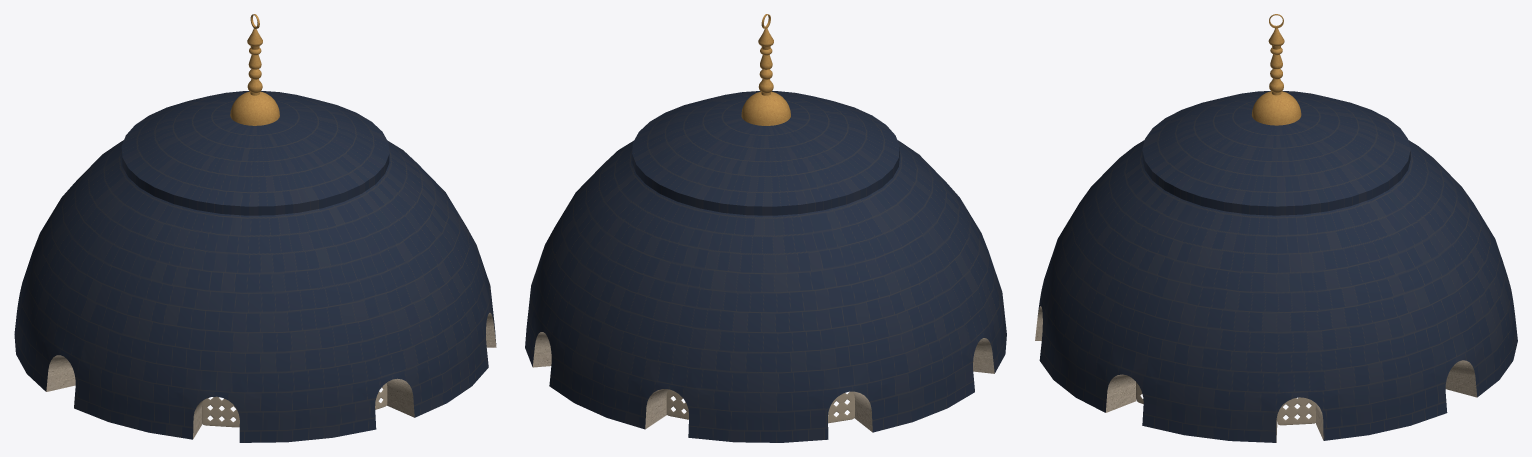
Rendered from BigDome.fbx.
The picture shows the model from 3 angles, left to right: view 1: azimuth 30°, elevation 25°; view 2: azimuth 150°, elevation 25°; view 3: azimuth 270°, elevation 25°; orthographic projection.
Parts seen in each view (by area): view 1: Sphere.003; view 2: Sphere.003; view 3: Sphere.003.
Boxes of the visible parts, x1,y1,x2,y2 form: Sphere.003: [14, 14, 496, 442]; Sphere.003: [525, 14, 1006, 442]; Sphere.003: [1035, 14, 1517, 442].
Size of the model in its own units: 723 by 541 by 723.
